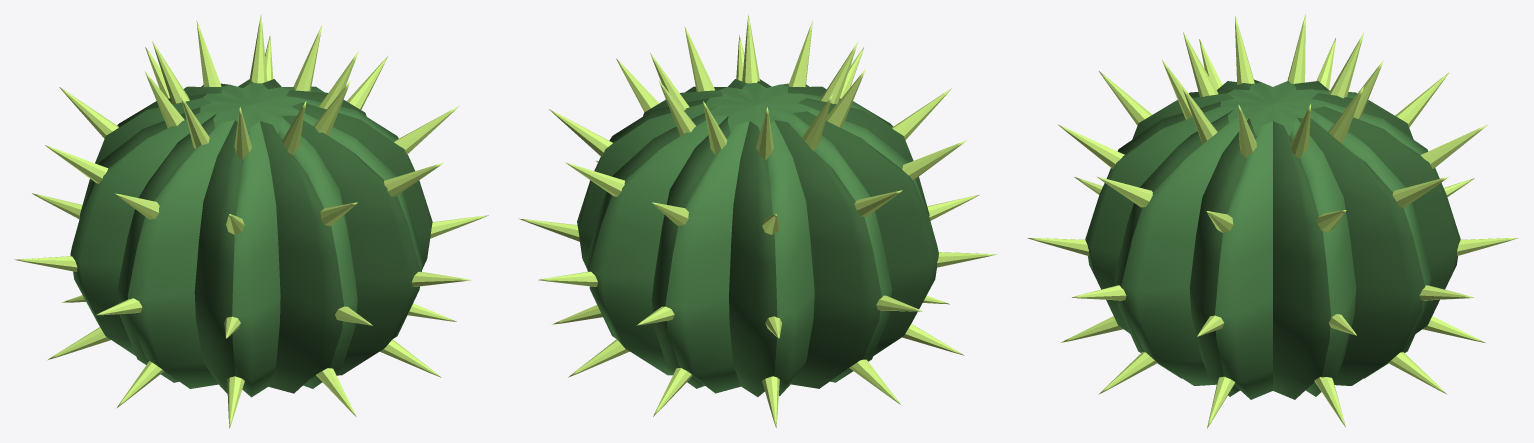
Rendered from CactusRound1.fbx.
3 renders of one model, left to right at view 1: azimuth 30°, elevation 25°; view 2: azimuth 150°, elevation 25°; view 3: azimuth 270°, elevation 25°, orthographic.
Visible parts, largest first — view 1: CactusRound1; view 2: CactusRound1; view 3: CactusRound1.
Boxes of the visible parts, x1=… form: CactusRound1: x1=15, y1=14, x2=488, y2=428; CactusRound1: x1=519, y1=14, x2=996, y2=427; CactusRound1: x1=1027, y1=14, x2=1518, y2=428.
Bounding box in the file's own units: 2.84 × 2.04 × 2.98.
